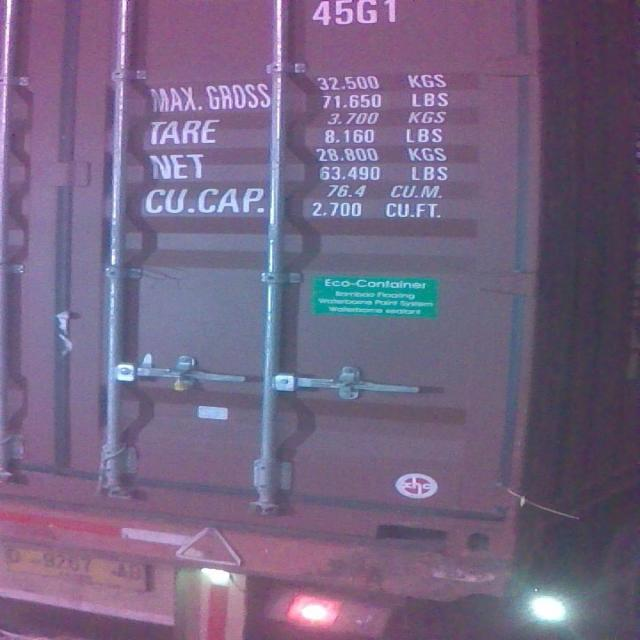seal: (167, 365, 197, 393)
